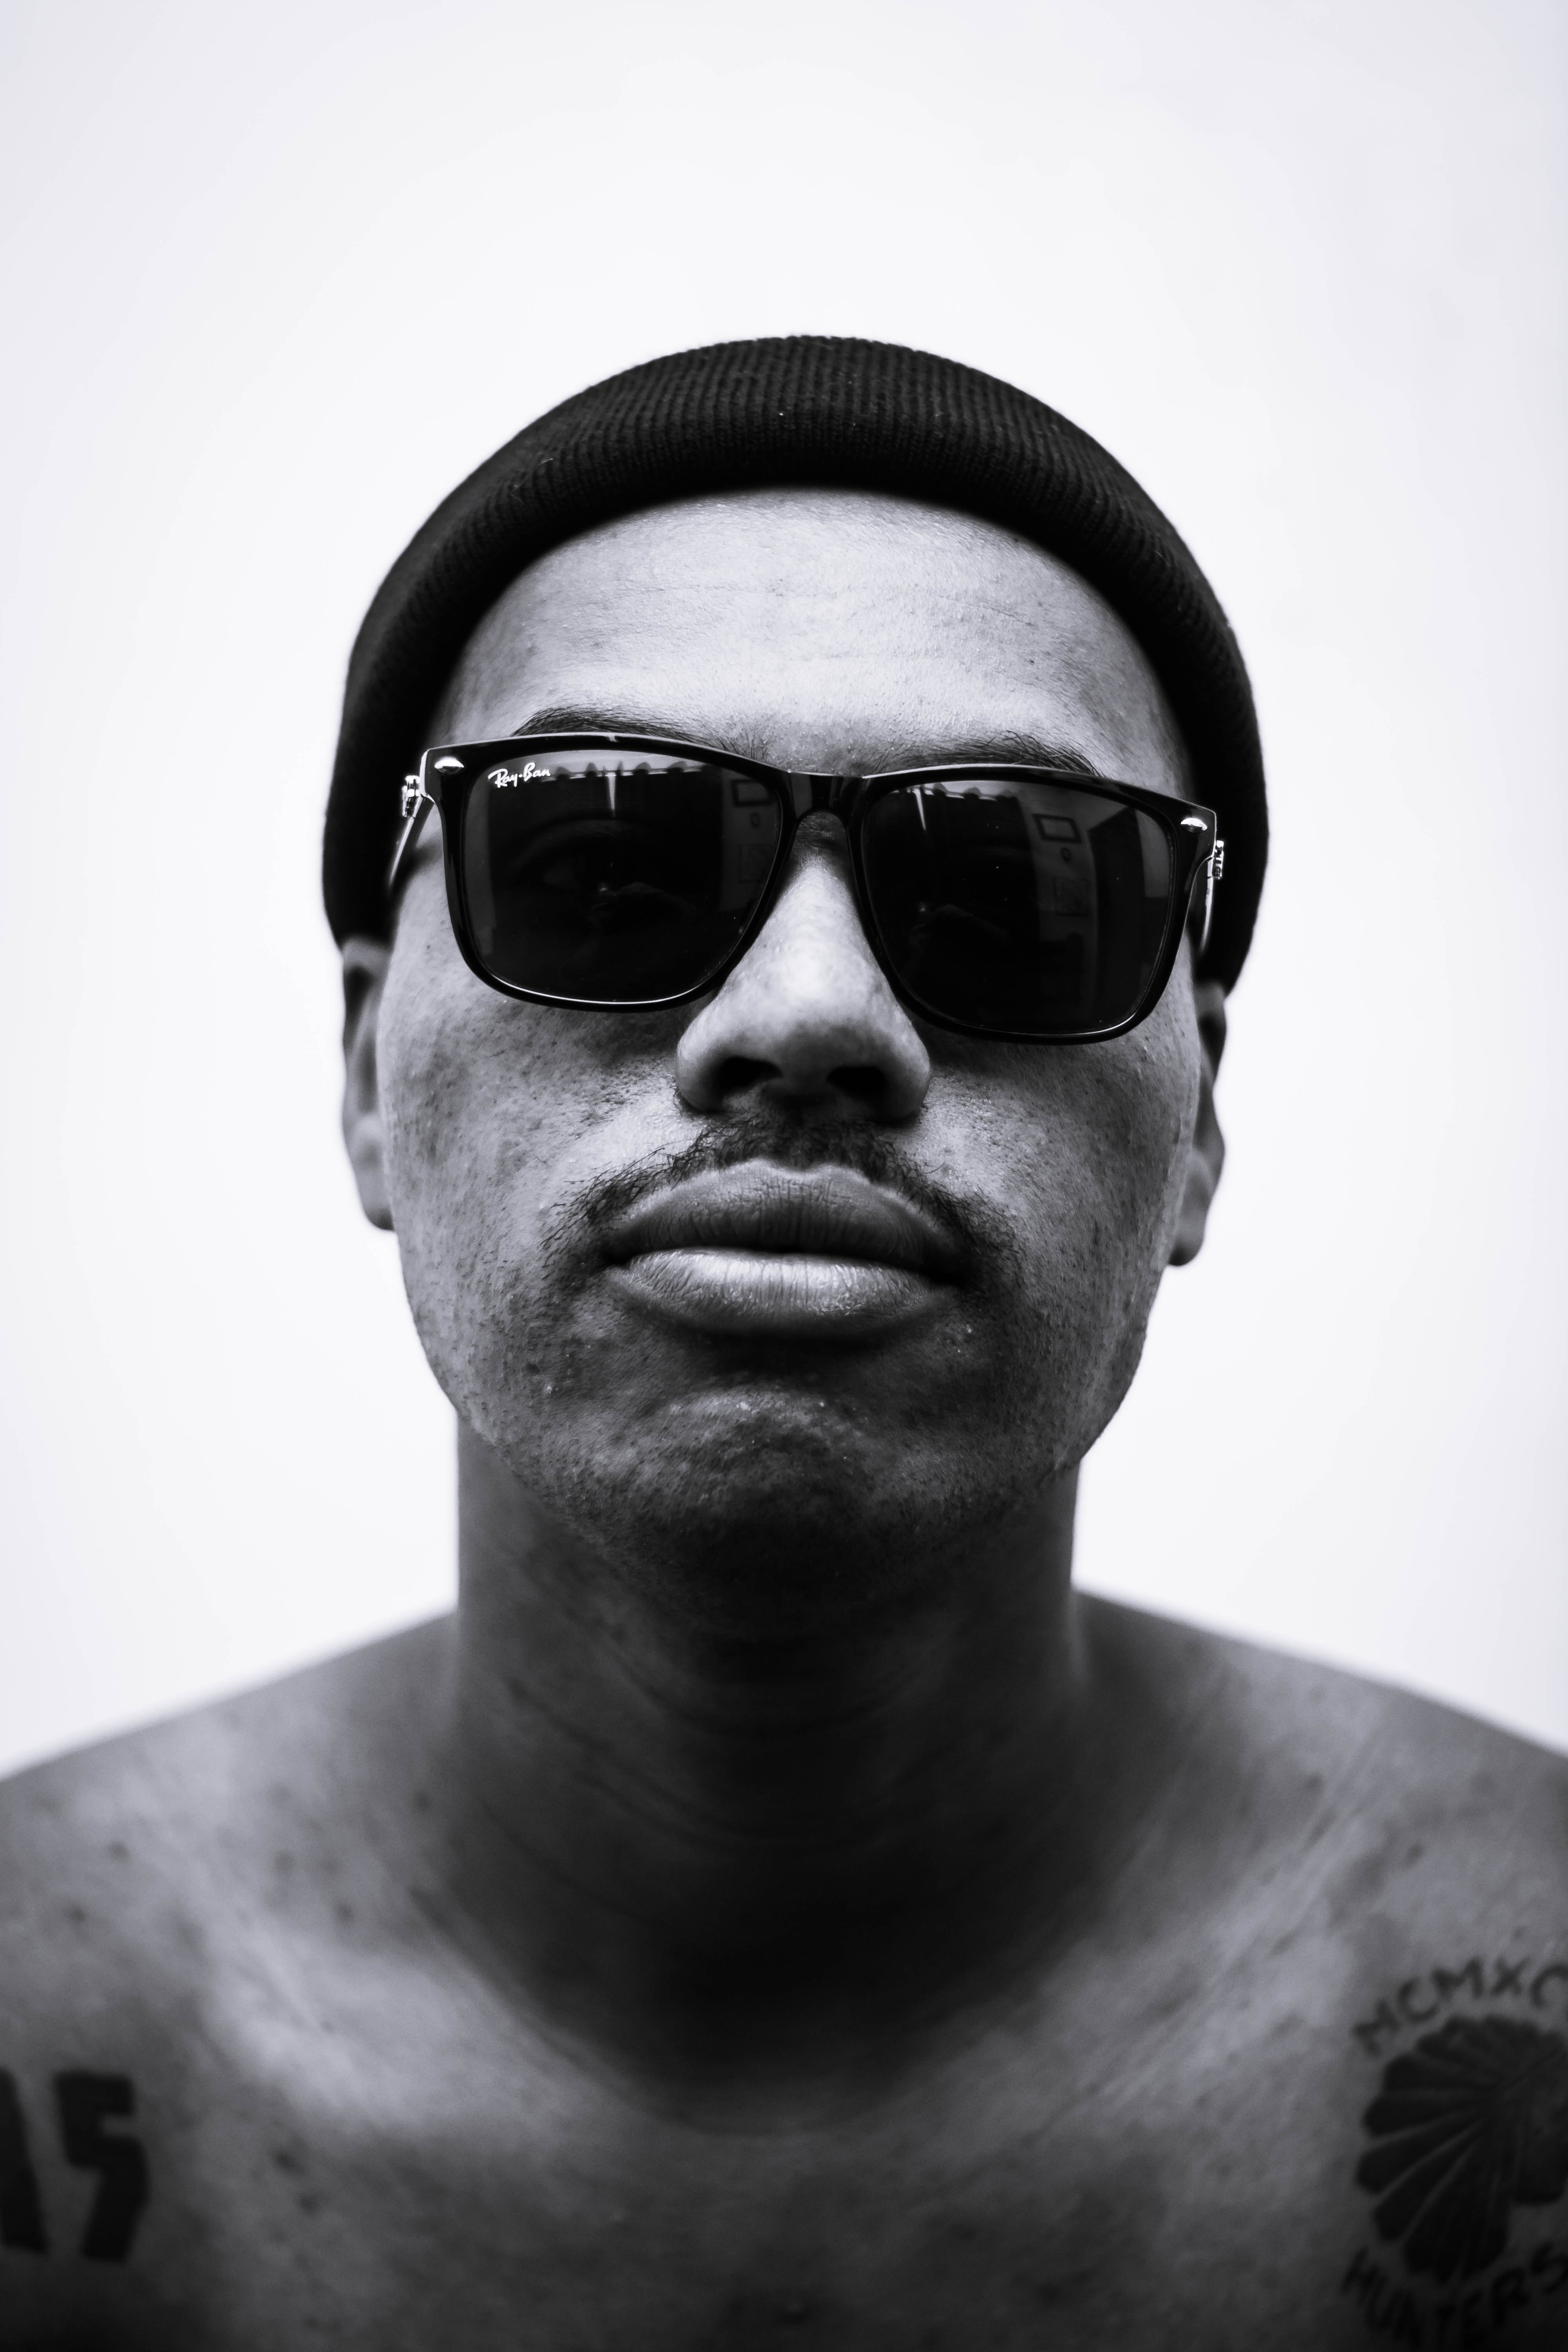face_no_mask: (331, 491, 1241, 1582)
